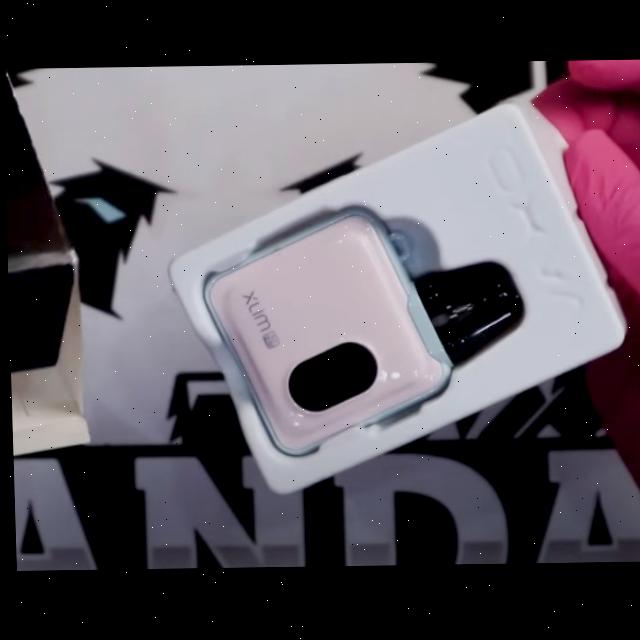vape: (199, 204, 528, 460)
